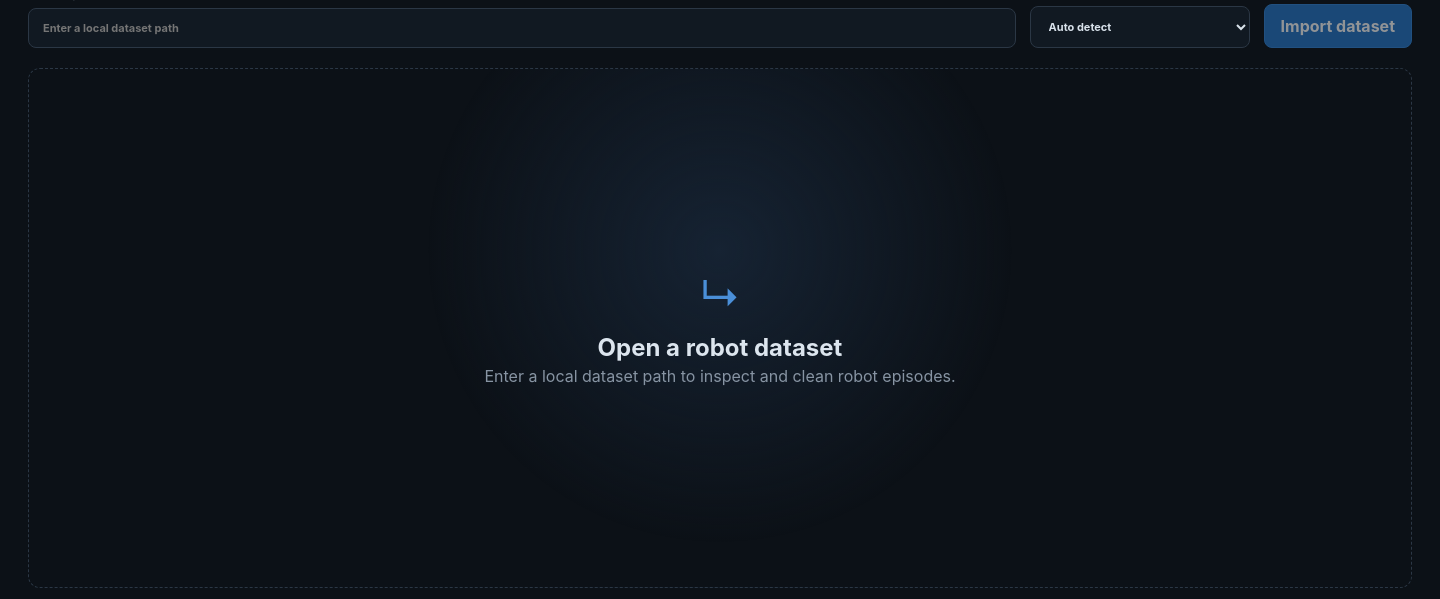
Test case: shows passed episodes in the status folder when default issue filters are selected
Type "/tmp/pusht" into the field labelled "Dataset path" at (522, 28), box left=28, top=8, right=1016, bottom=48
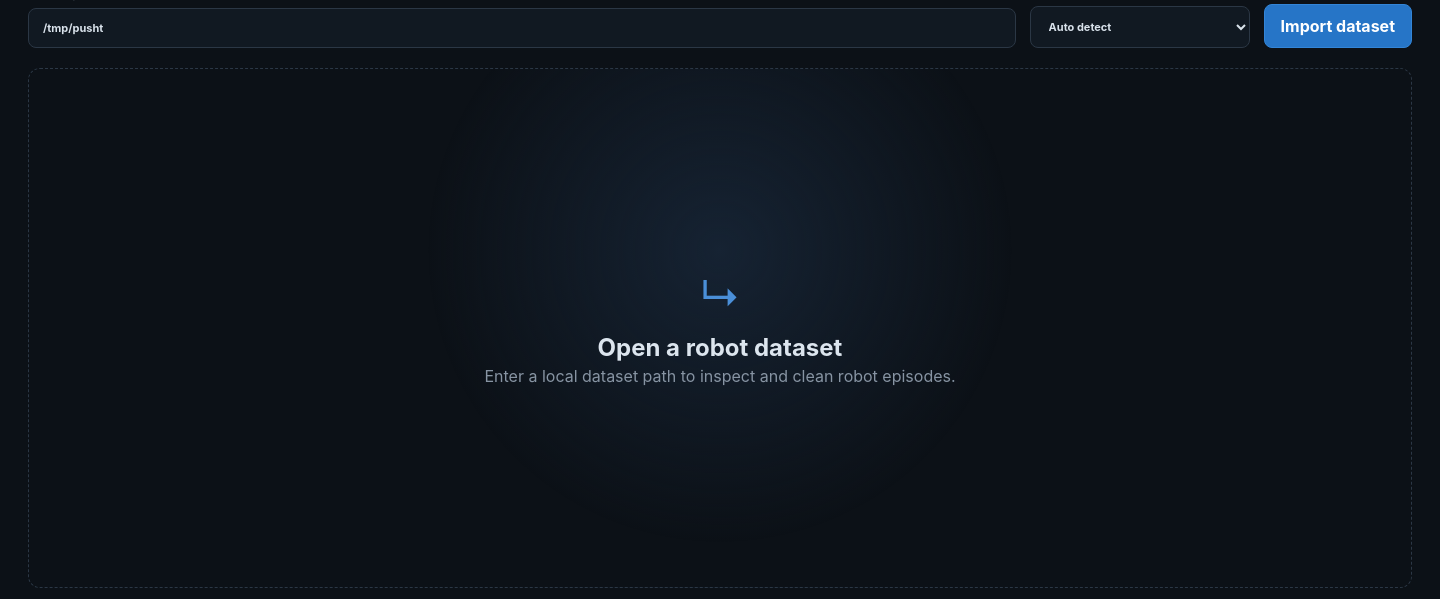
Click the button "Import dataset" at (1338, 26), box left=1264, top=4, right=1412, bottom=48
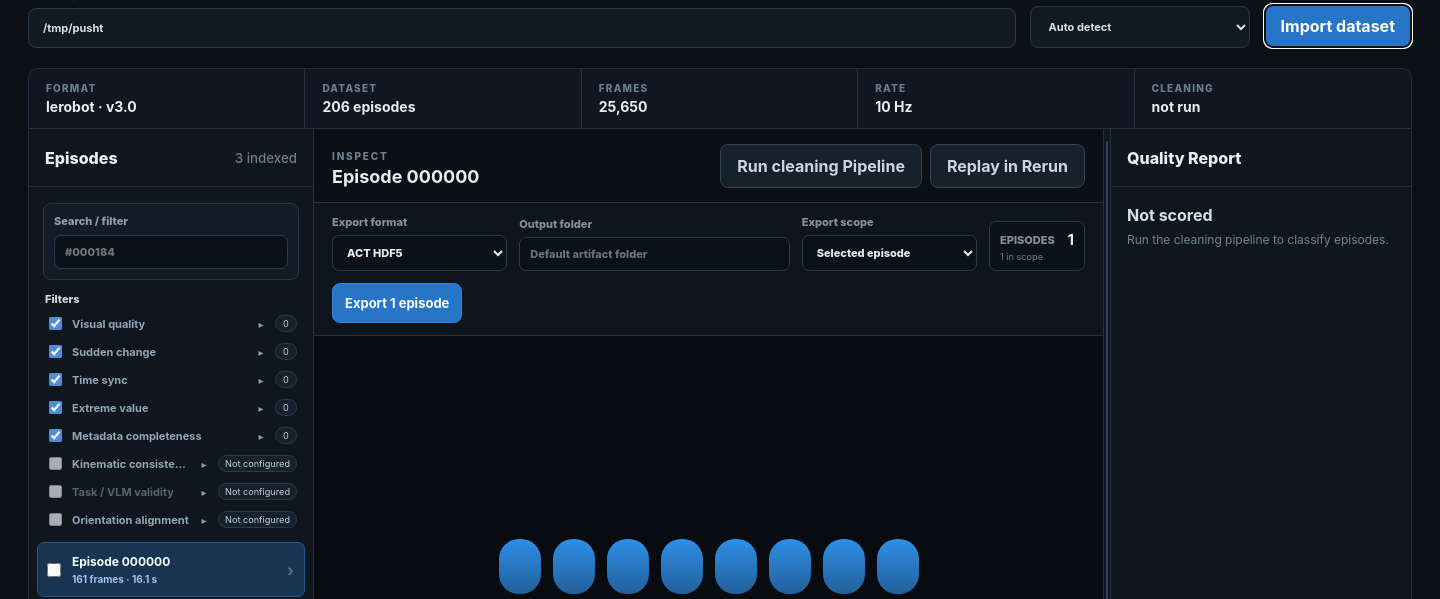
Click the button "Run cleaning Pipeline" at (821, 166), box left=720, top=144, right=922, bottom=188
(page scrolled)
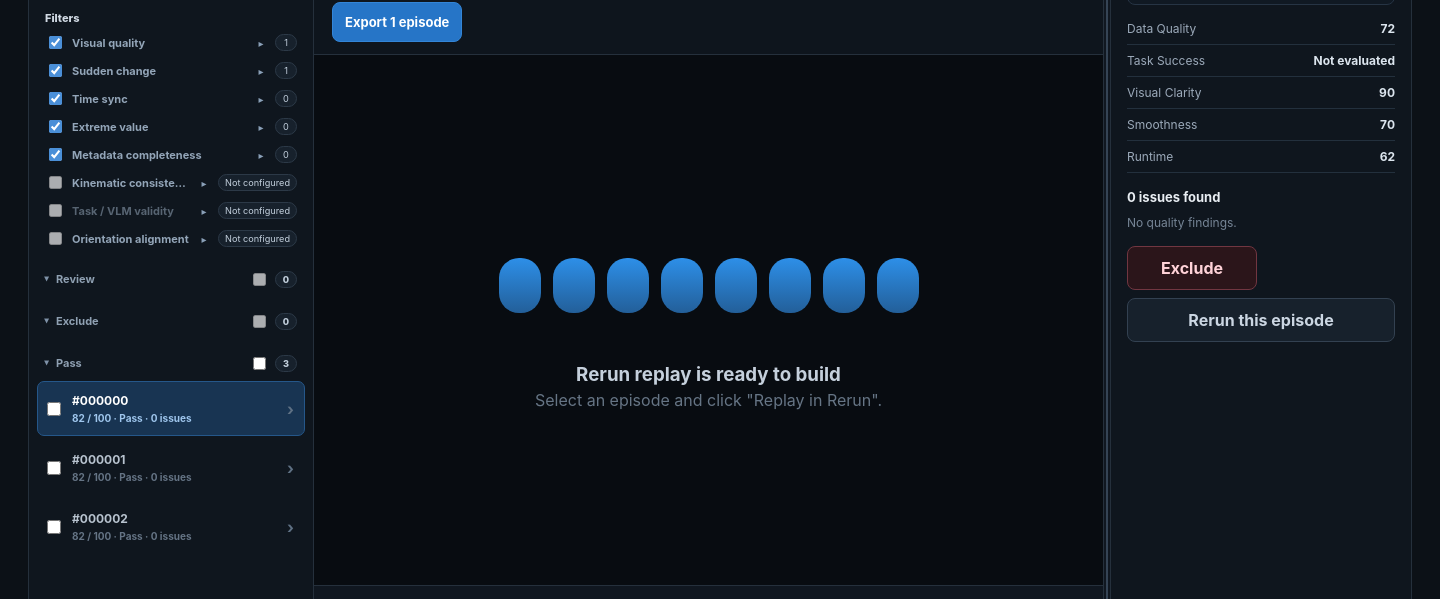
Expected: the button with aria-label "Collapse Pass folder" is shown, left=45, top=356, right=82, bottom=370
Expected: the button "#000000 82 / 100 · Pass · 0 issues ›" is shown, left=68, top=382, right=304, bottom=435
Expected: the button "#000001 82 / 100 · Pass · 0 issues ›" is shown, left=68, top=441, right=304, bottom=494
